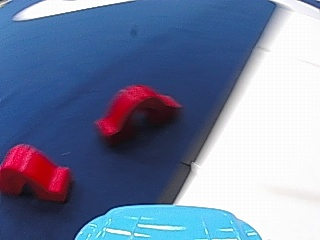bridge: (88, 78, 185, 149), (0, 140, 76, 204)
